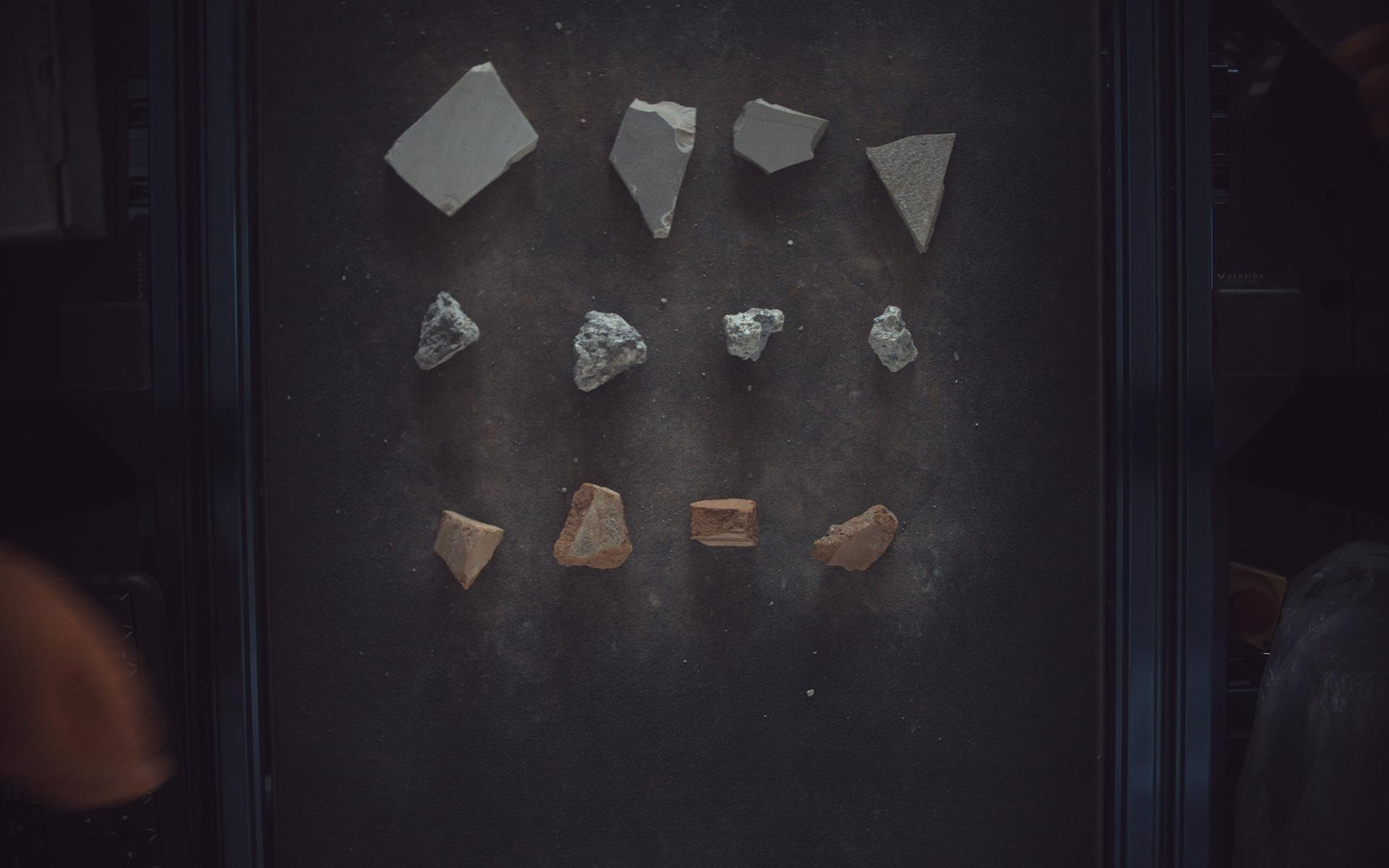brick: (553, 483, 633, 570), (813, 505, 900, 571), (434, 511, 504, 590), (692, 498, 760, 548)
concrete: (574, 311, 647, 391), (415, 292, 480, 370), (870, 305, 919, 372), (725, 307, 786, 360)
tile: (385, 61, 539, 215), (611, 98, 697, 238), (868, 132, 958, 252), (734, 98, 830, 173)
